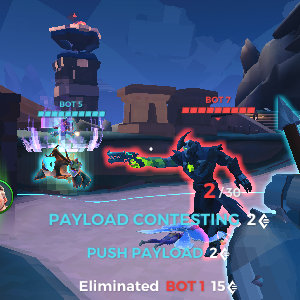model: (136, 118, 254, 259)
